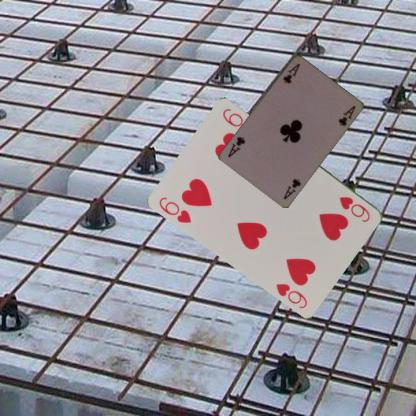6h: (157, 194, 193, 225), (337, 194, 372, 224)
Ac: (280, 60, 302, 84), (281, 176, 302, 201)
